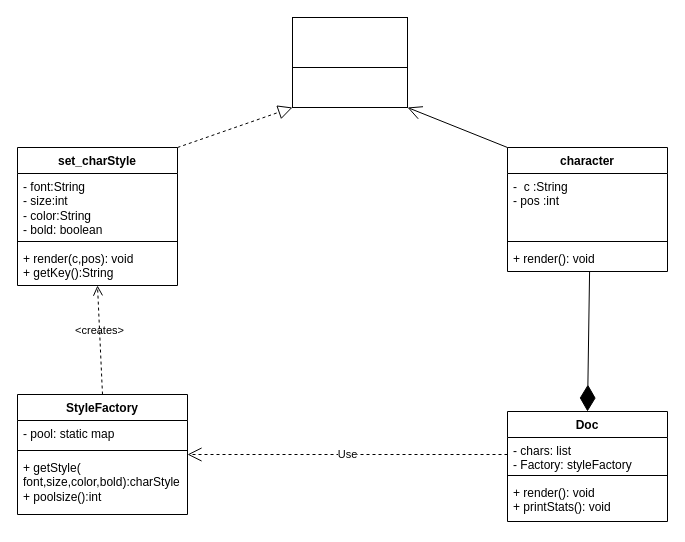
Image size: 685x542. Some labels were removed from this diagram. The centre of each missing label's shape, as x and y in pixels:
+ render: void + getKey:String: point (350, 87)
<interface> charStyle: point (350, 42)
